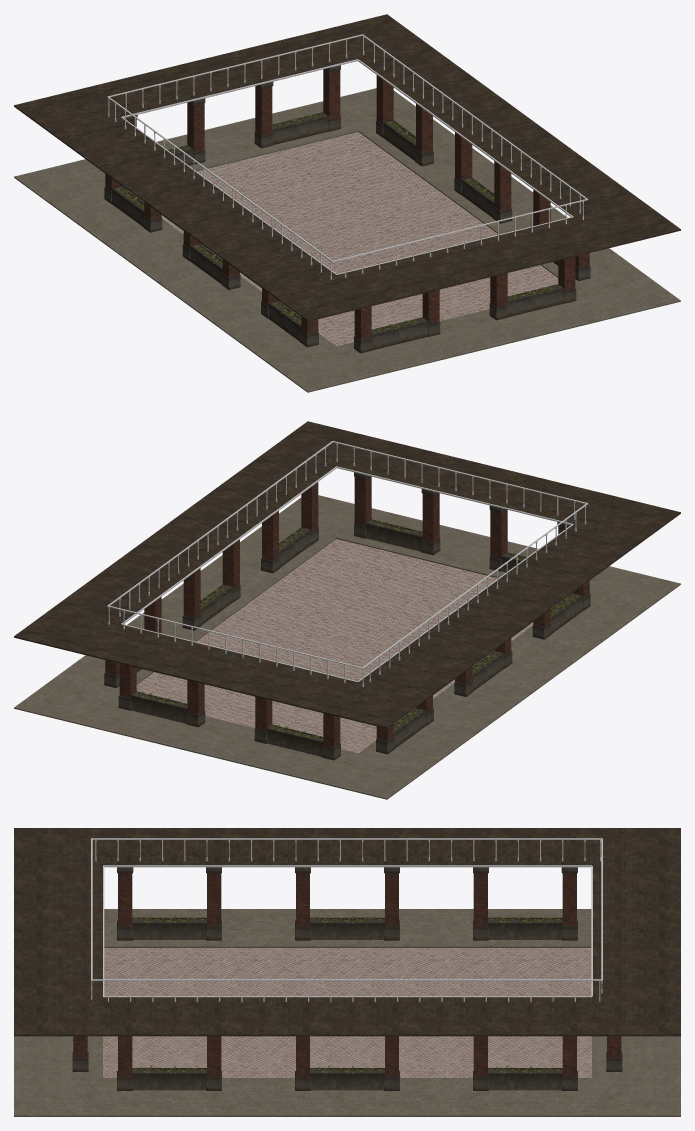
The model's file is courtyard_22m_x_30m.fbx.
3 renders of one model, top to bottom at view 1: azimuth 30°, elevation 25°; view 2: azimuth 150°, elevation 25°; view 3: azimuth 270°, elevation 25°, orthographic. The views are drawn at different scales.
Visible parts, largest first — view 1: courtyard_22m_x_30m; view 2: courtyard_22m_x_30m; view 3: courtyard_22m_x_30m.
Part boxes in pixels (x1=…): courtyard_22m_x_30m: x1=14, y1=14, x2=680, y2=392; courtyard_22m_x_30m: x1=14, y1=421, x2=680, y2=799; courtyard_22m_x_30m: x1=14, y1=828, x2=680, y2=1116.
Bounding box in the file's own units: 2200 × 518 × 3000.
